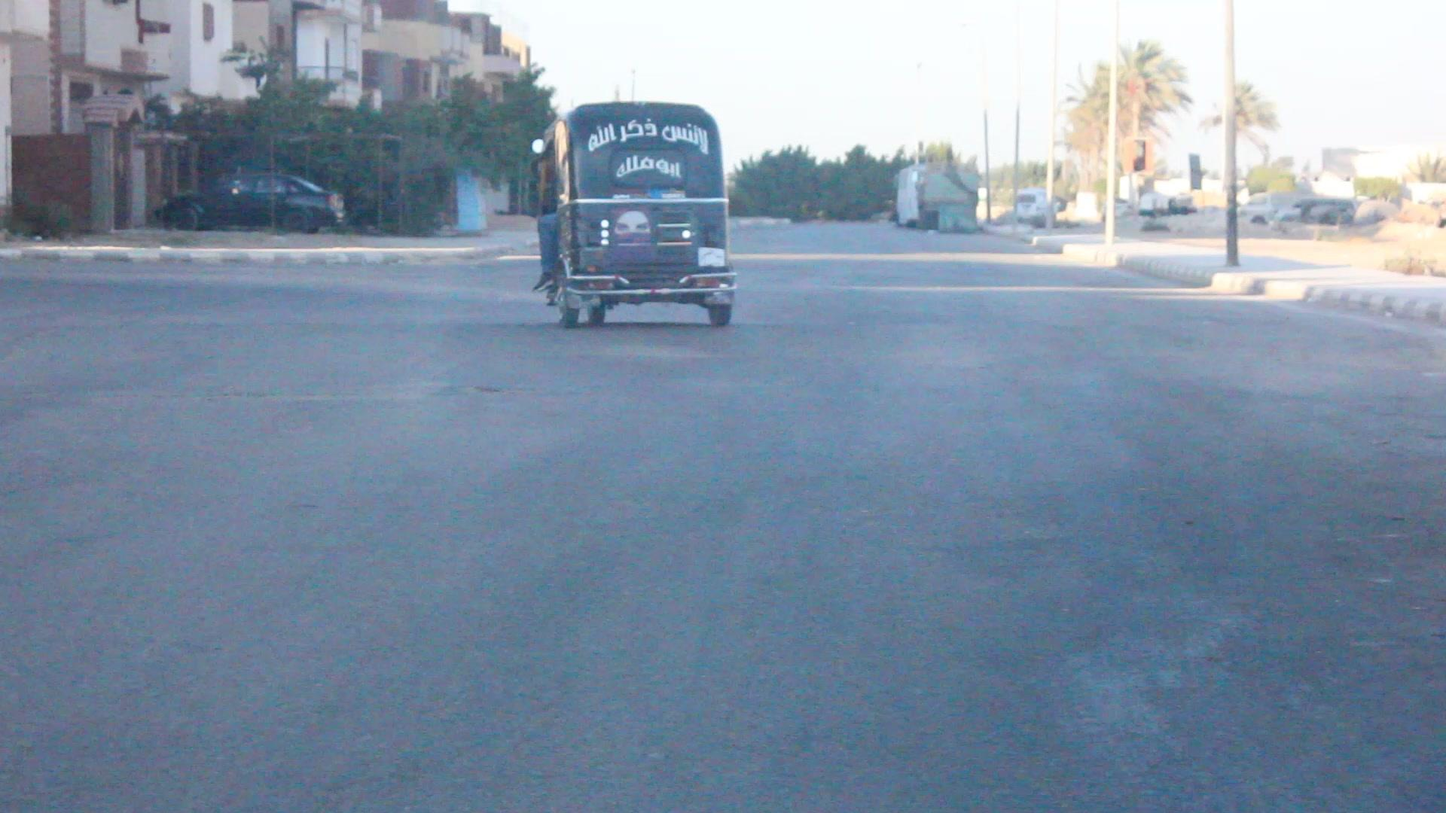Bump: (6, 282, 1446, 410)
